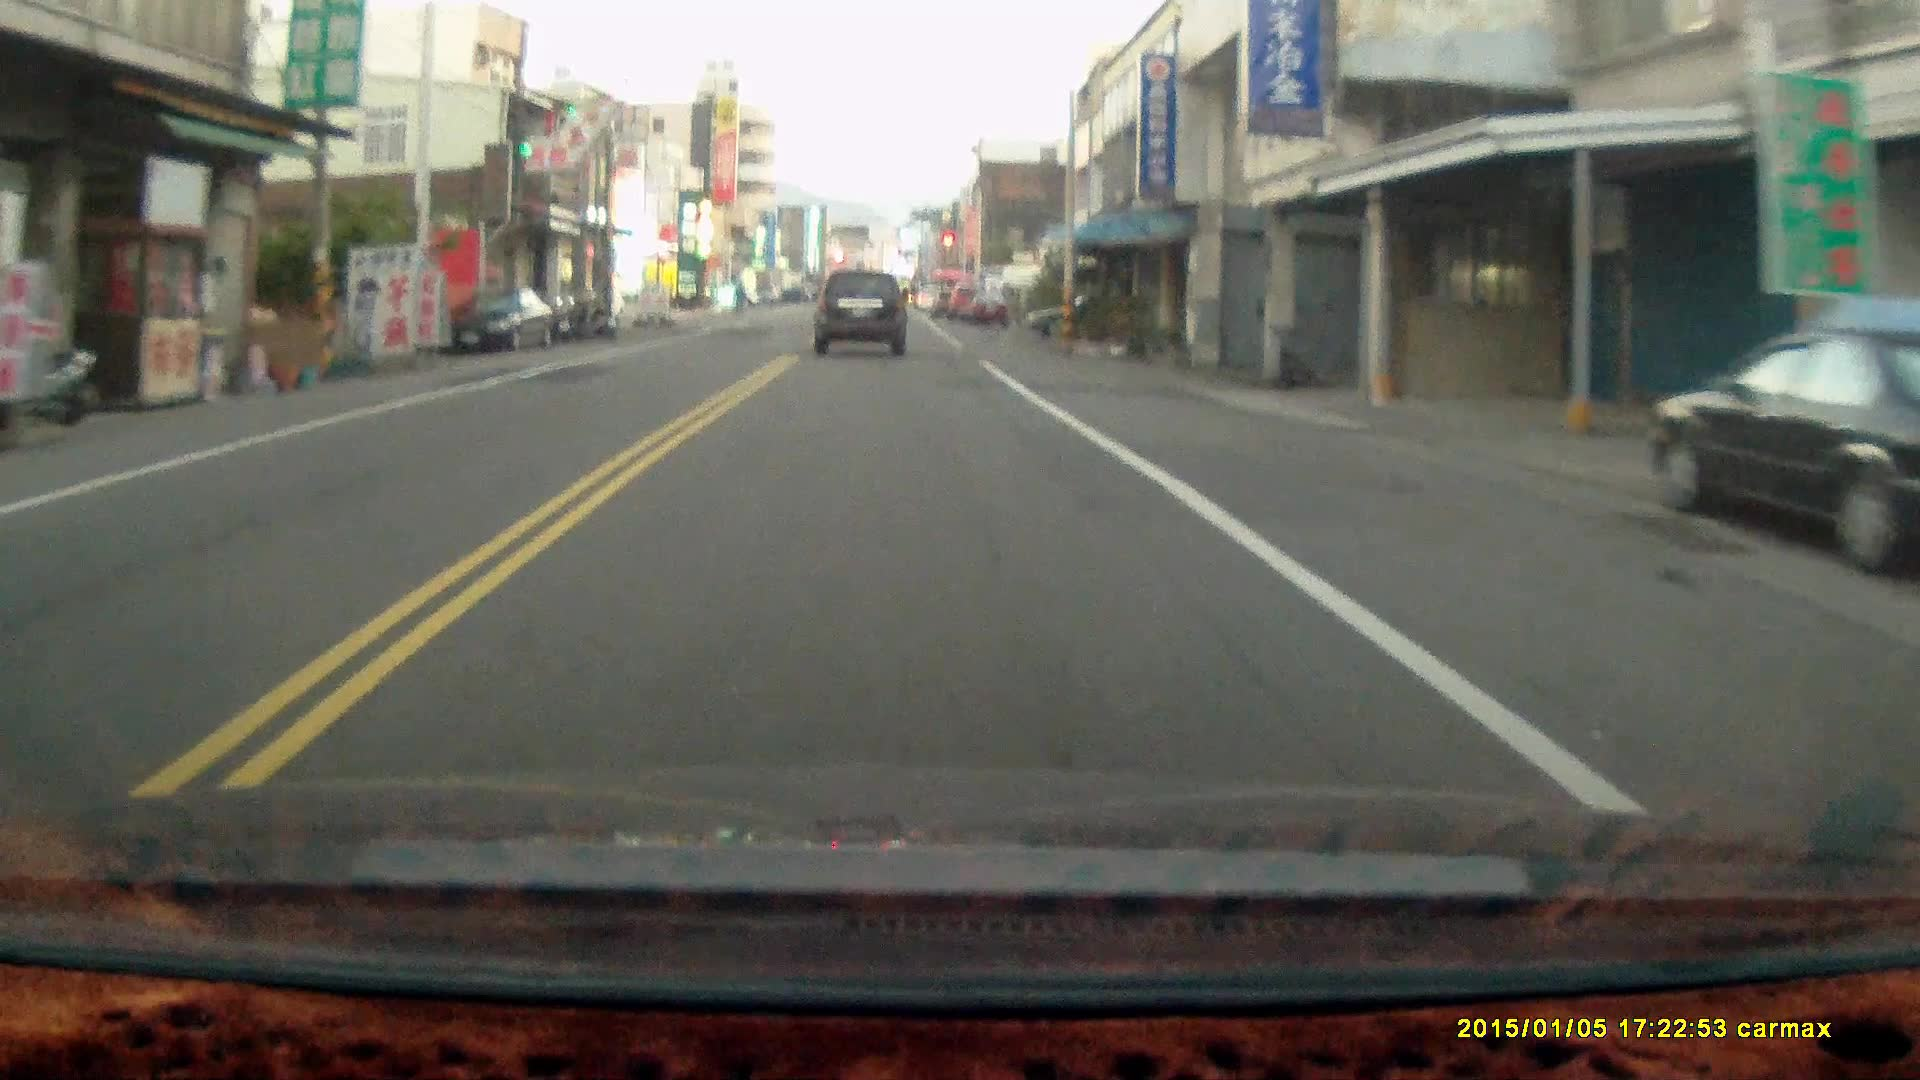vehicle: (1647, 332, 1920, 576), (814, 270, 911, 357), (440, 287, 556, 357)
